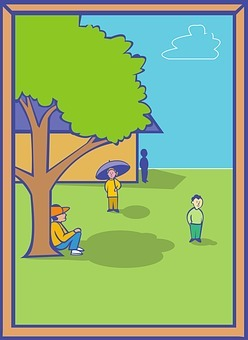person: (50, 202, 90, 261), (181, 191, 212, 245), (98, 167, 126, 218), (138, 143, 151, 185)
